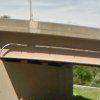Bridge: (3, 10, 97, 71)
